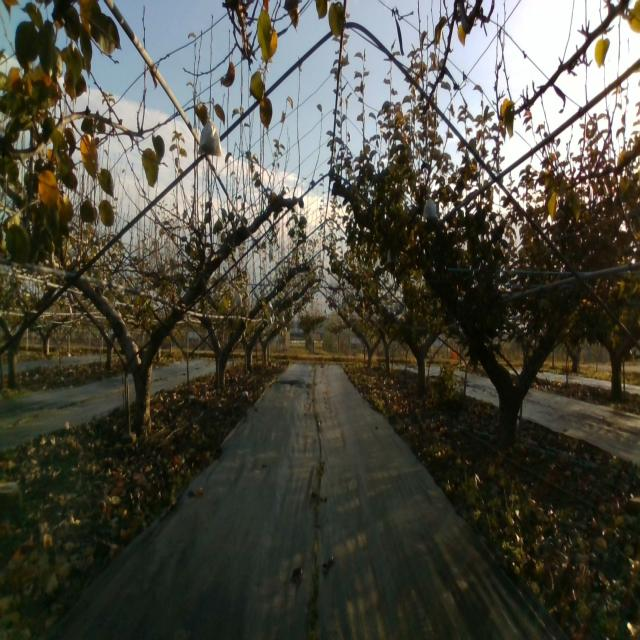pearbags: (196, 113, 223, 158), (422, 194, 438, 221)
